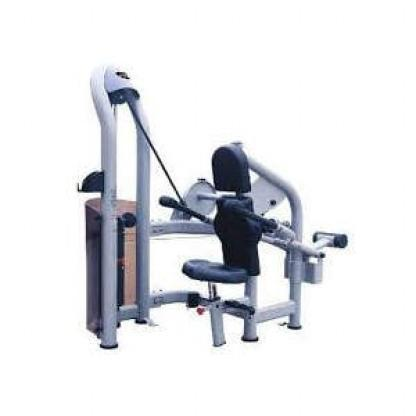seated dip machine: (77, 65, 347, 352)
